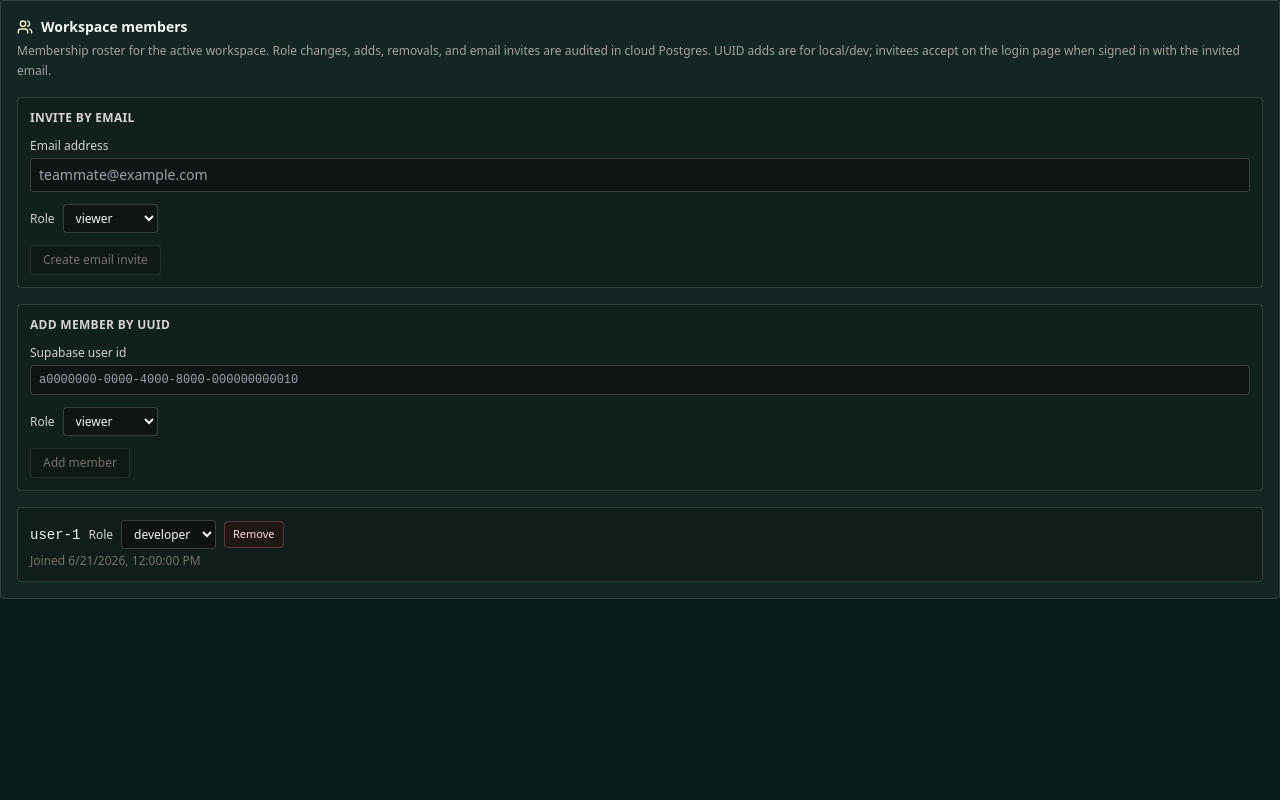
AdminMembersPanel › removes members through the audited remove RPC helper
What coordinates should you click on to do the following:
click the button with aria-label "Remove user-1"
I would click on:
 (254, 535)
Its box is [224,521,284,548].
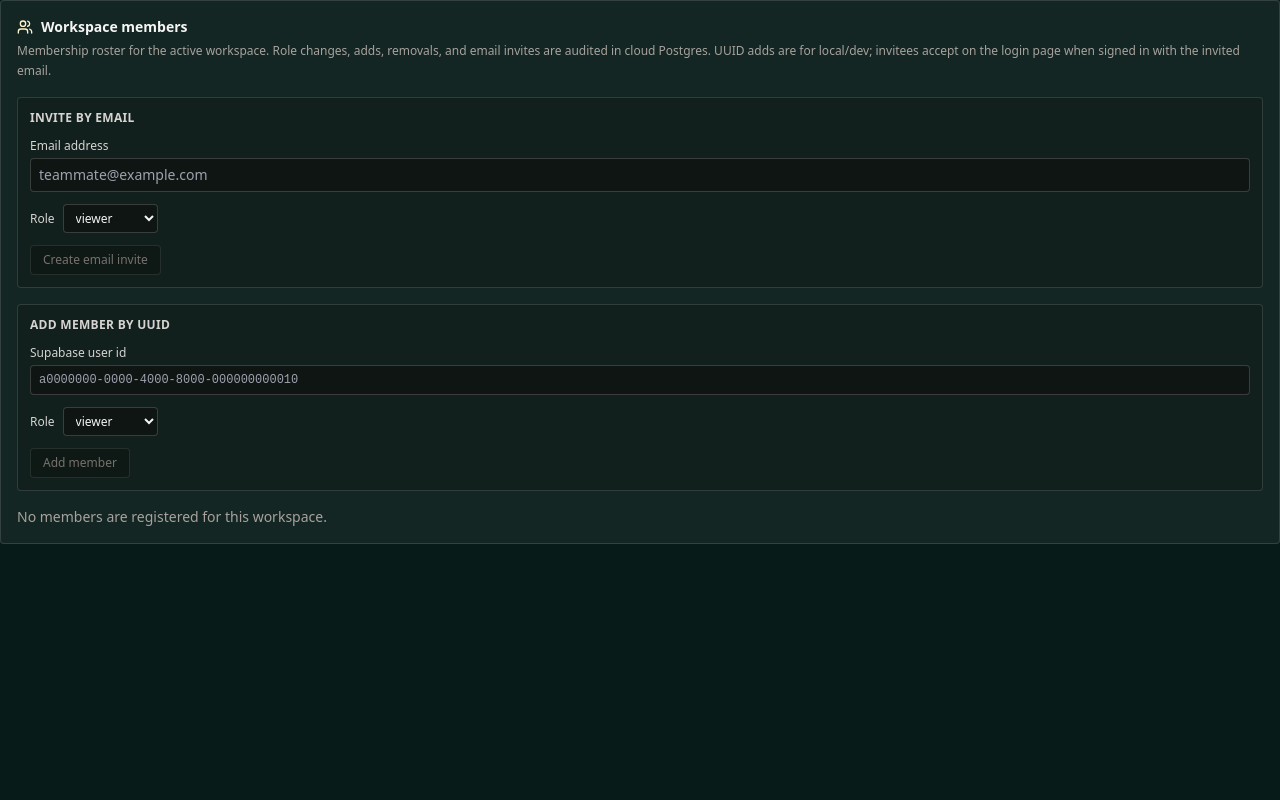
Now the heading "user-1" is gone
